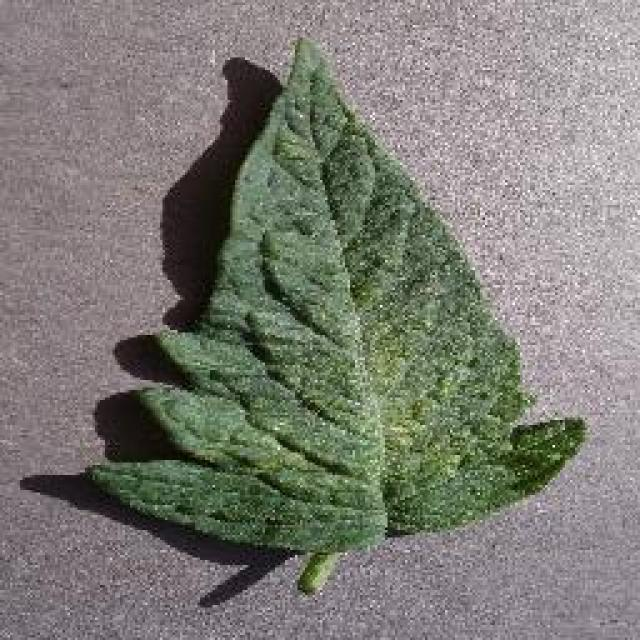Tomato mosaic virus leaf: (86, 32, 589, 558)
